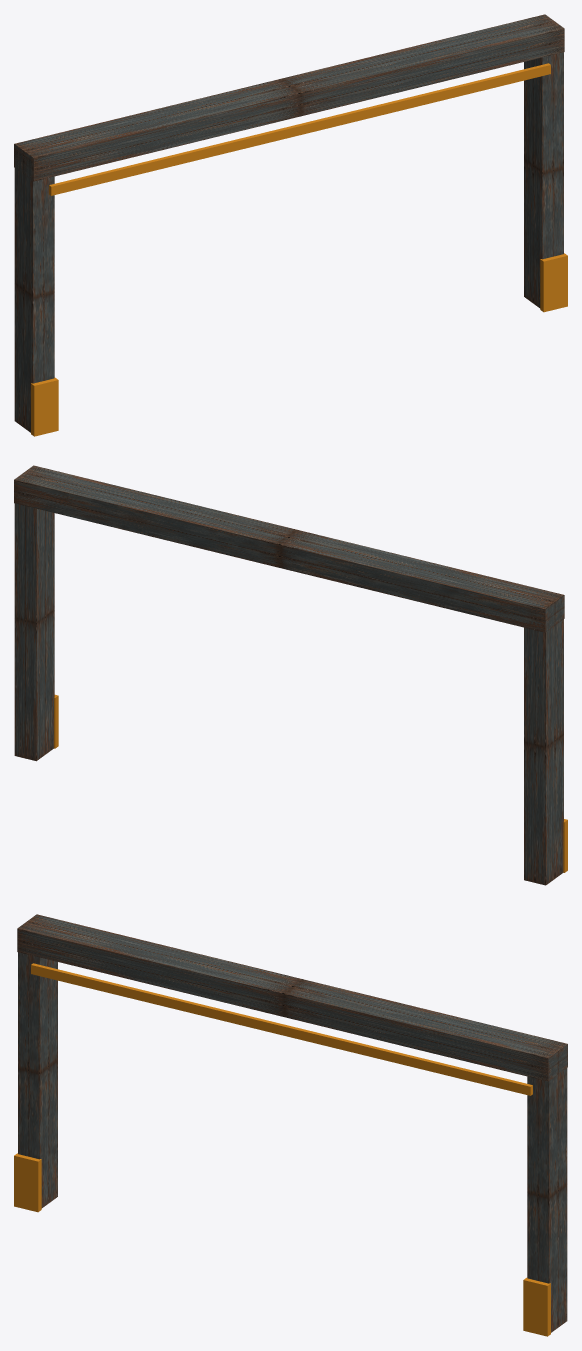
File: GarageBayFrame.obj
3 views of the same model, one above another, from view 1: azimuth 30°, elevation 25°; view 2: azimuth 150°, elevation 25°; view 3: azimuth 330°, elevation 25° (orthographic).
Visible parts, largest first — view 1: GarageBayFrame; view 2: GarageBayFrame; view 3: GarageBayFrame.
Part boxes in pixels (x1=…): GarageBayFrame: x1=14, y1=14, x2=567, y2=436; GarageBayFrame: x1=14, y1=465, x2=567, y2=885; GarageBayFrame: x1=14, y1=914, x2=567, y2=1336.
Size of the model in its own units: 11 by 5.45 by 0.77.
2 materials, 1 textured.
